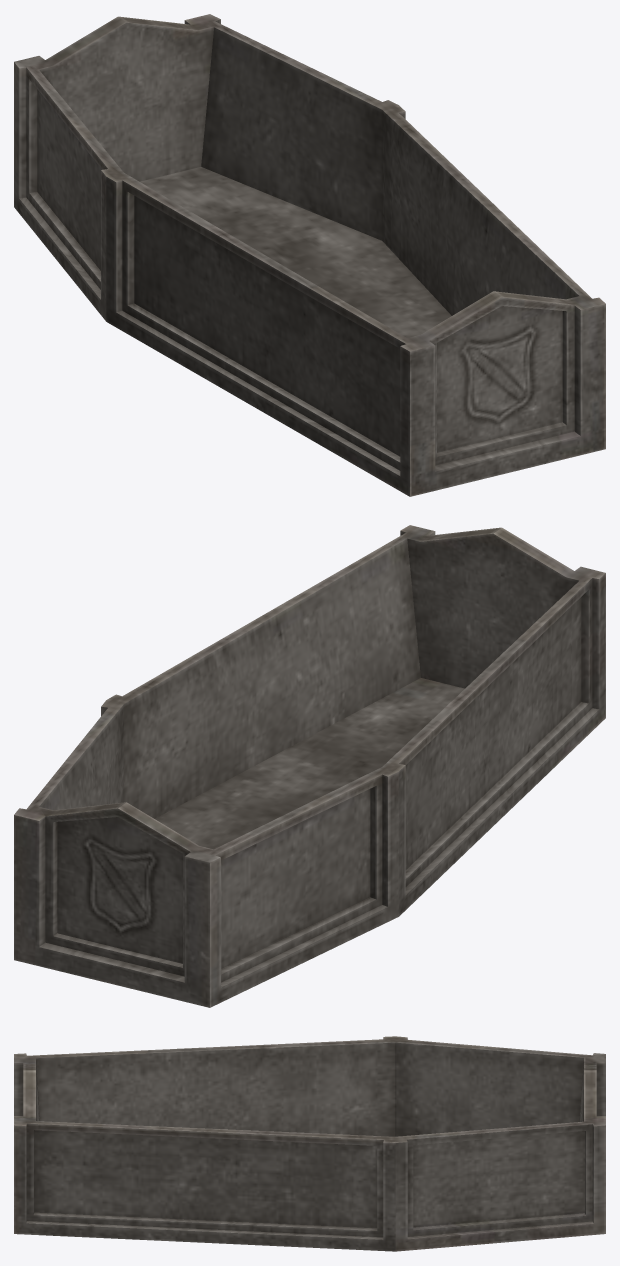
The model's file is SM_Stone_Coffin_Body.glb.
3 views of the same model, one above another, from view 1: azimuth 30°, elevation 25°; view 2: azimuth 150°, elevation 25°; view 3: azimuth 270°, elevation 25° (orthographic). The views are drawn at different scales.
Parts seen in each view (by area): view 1: SM_Stone_Coffin_Body; view 2: SM_Stone_Coffin_Body; view 3: SM_Stone_Coffin_Body.
Boxes of the visible parts, x1=… form: SM_Stone_Coffin_Body: x1=14, y1=14, x2=605, y2=496; SM_Stone_Coffin_Body: x1=14, y1=525, x2=605, y2=1007; SM_Stone_Coffin_Body: x1=14, y1=1036, x2=605, y2=1251.
Bounding box in the file's own units: 0.8572 × 0.4791 × 2.01.
Materials: 1 (1 with a texture image).
